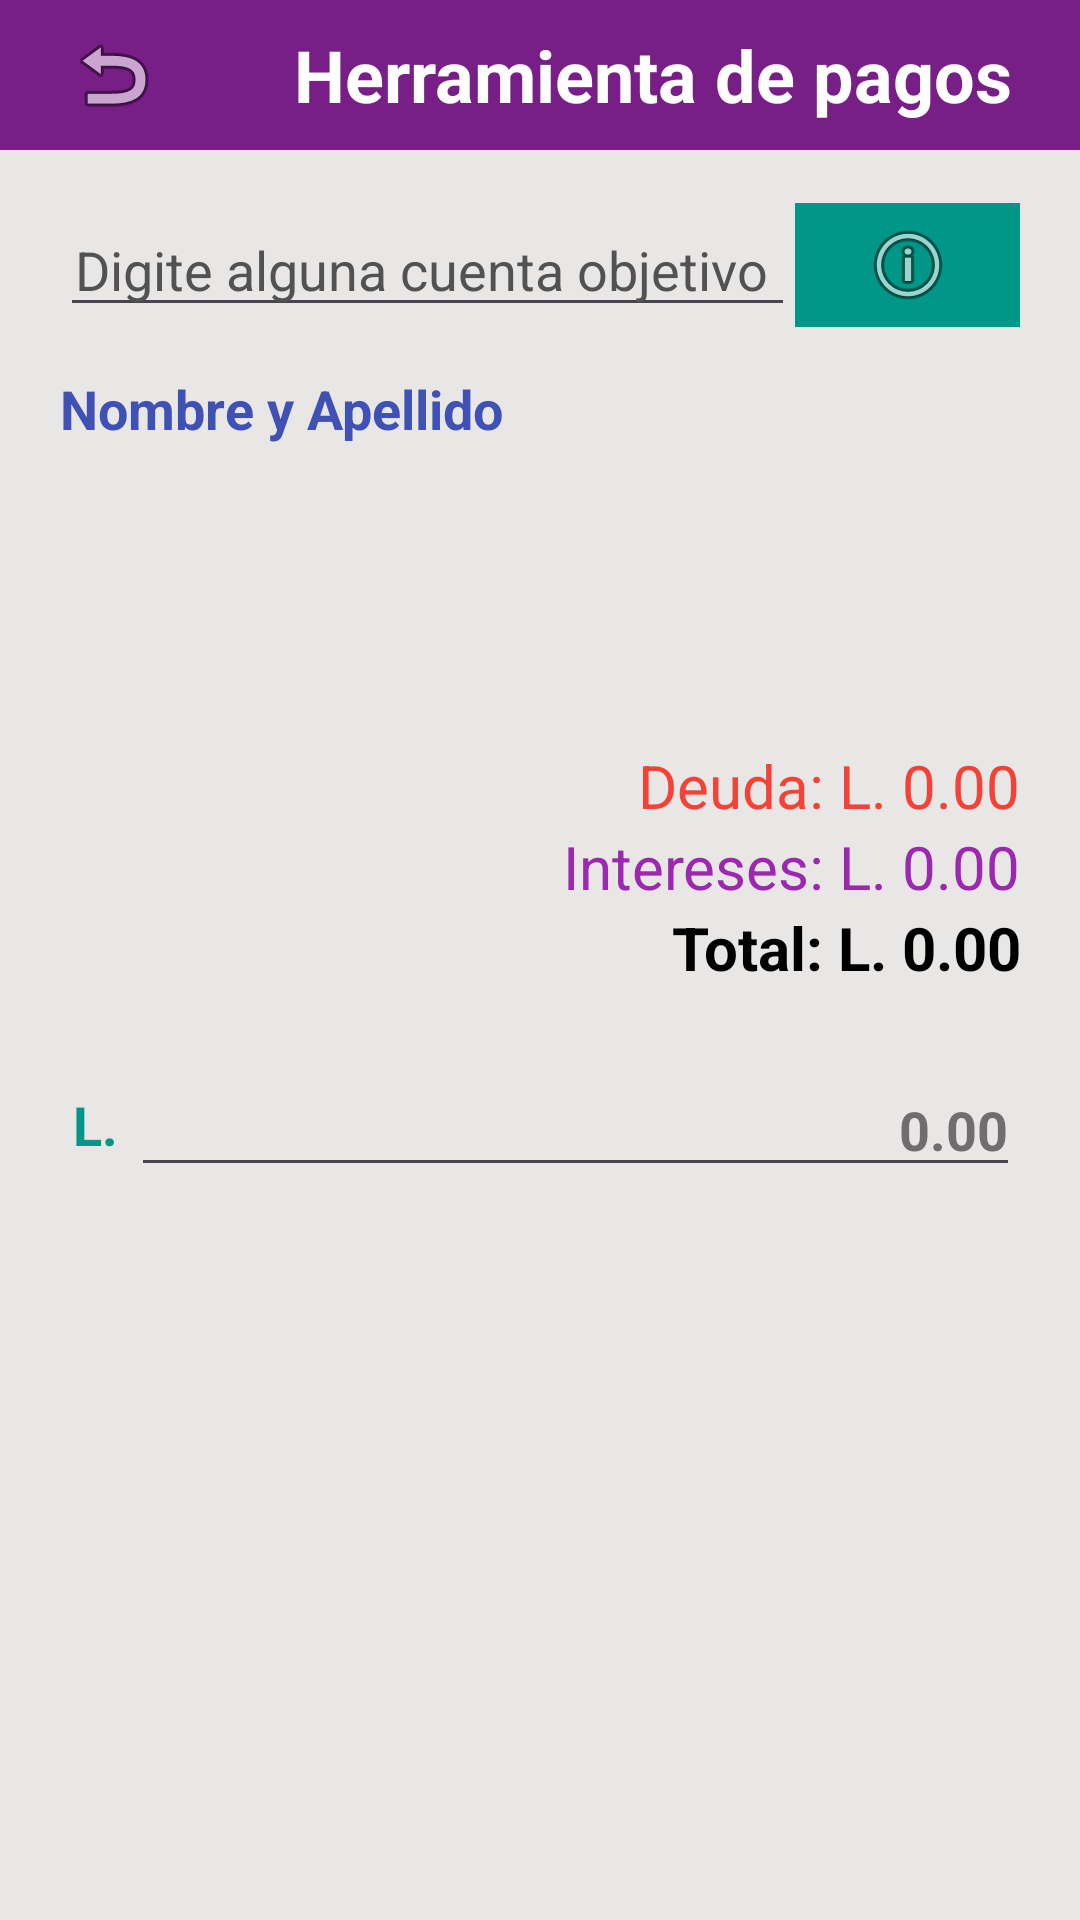

Icon click points for this 1080 × 1920 phone screenshot, format [x,y]:
info details: [907,265]
revert: [114,76]
